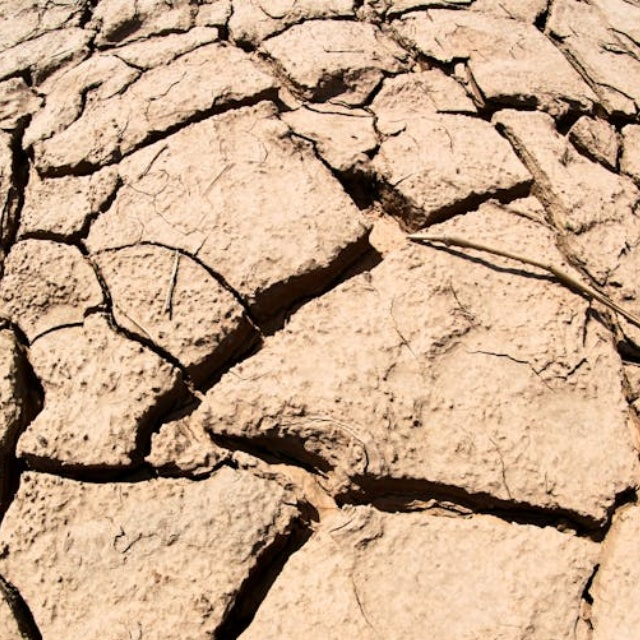深大裂缝: (0, 192, 640, 640)
